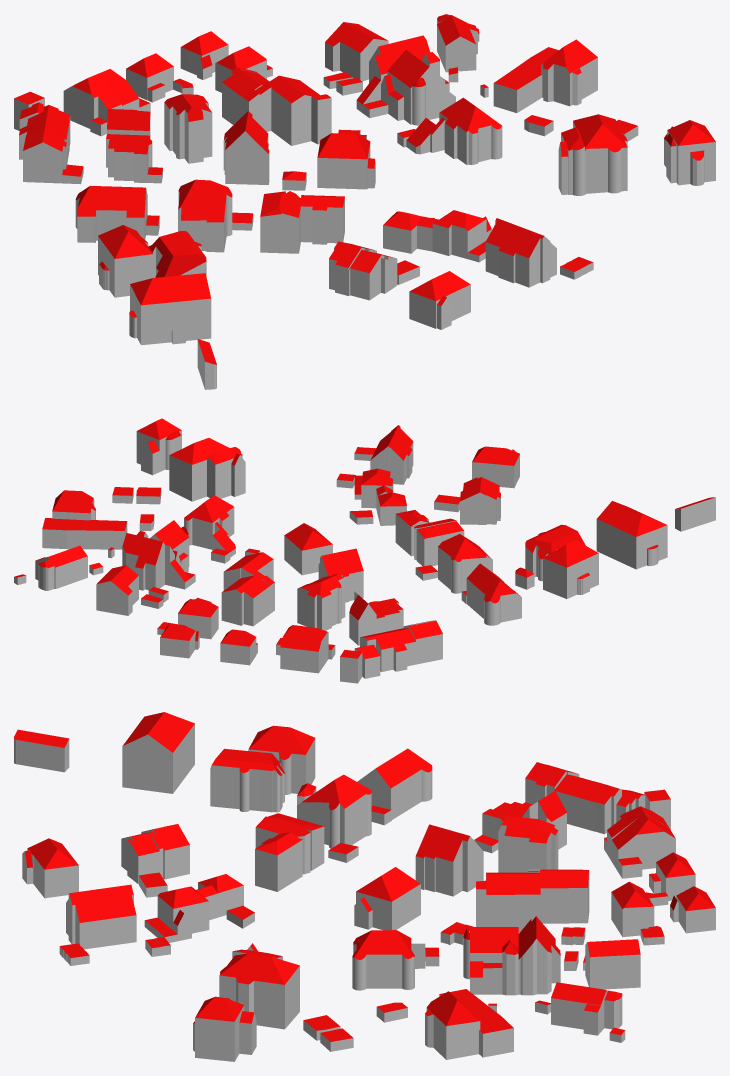
3 renders of one model, top to bottom at view 1: azimuth 30°, elevation 25°; view 2: azimuth 150°, elevation 25°; view 3: azimuth 270°, elevation 25°, orthographic. The views are drawn at different scales.
Bounding box in the file's own units: 199 × 18.52 × 194.
